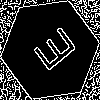E: (25, 25, 78, 79)
